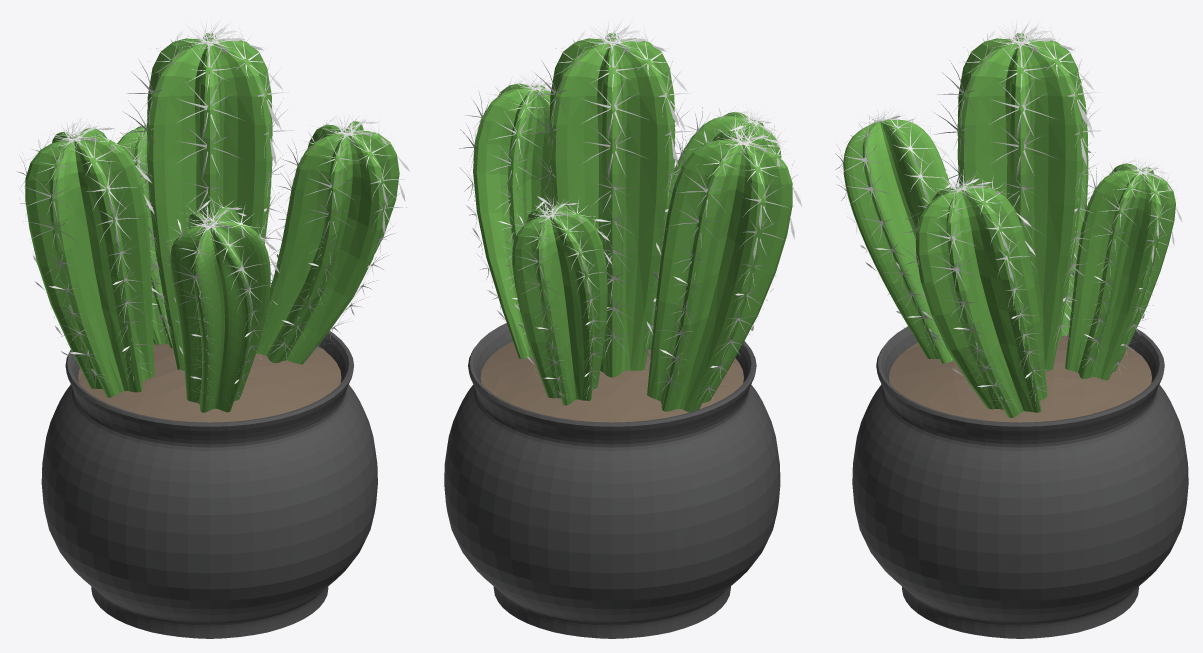
The model's file is sweethome3d-blendswap-cc-0-cactus-106.glb.
3 renders of one model, left to right at view 1: azimuth 30°, elevation 25°; view 2: azimuth 150°, elevation 25°; view 3: azimuth 270°, elevation 25°, orthographic.
Parts seen in each view (by area): view 1: Circle.016_Circle.031, Circle.019_Circle.035, Circle.014_Circle.009, Circle.018_Circle.033, Circle.017_Circle.034, forest-floor-458775_1280, Circle.005, Circle.003, Circle.001, Circle.002, Circle.021_Circle.036; view 2: Circle.016_Circle.031, Circle.014_Circle.009, Circle.019_Circle.035, Circle.021_Circle.036, Circle.018_Circle.033, forest-floor-458775_1280, Circle.005, Circle.003, Circle.000, Circle.017_Circle.034, Circle.001, Circle.002; view 3: Circle.016_Circle.031, Circle.014_Circle.009, Circle.018_Circle.033, Circle.021_Circle.036, Circle.017_Circle.034, forest-floor-458775_1280, Circle.005, Circle.001, Circle.000, Circle.002, Circle.019_Circle.035.
Boxes of the visible parts, left/top/right/bottom form: Circle.016_Circle.031: left=41, top=331, right=377, bottom=638; Circle.019_Circle.035: left=25, top=128, right=154, bottom=397; Circle.014_Circle.009: left=147, top=33, right=272, bottom=370; Circle.018_Circle.033: left=256, top=121, right=399, bottom=364; Circle.017_Circle.034: left=170, top=206, right=270, bottom=412; forest-floor-458775_1280: left=78, top=341, right=341, bottom=422; Circle.005: left=121, top=18, right=294, bottom=342; Circle.003: left=17, top=117, right=156, bottom=389; Circle.001: left=269, top=112, right=409, bottom=360; Circle.002: left=161, top=196, right=279, bottom=404; Circle.021_Circle.036: left=117, top=125, right=172, bottom=348; Circle.016_Circle.031: left=444, top=323, right=780, bottom=638; Circle.014_Circle.009: left=549, top=33, right=675, bottom=377; Circle.019_Circle.035: left=647, top=130, right=792, bottom=412; Circle.021_Circle.036: left=512, top=204, right=607, bottom=405; Circle.018_Circle.033: left=473, top=83, right=552, bottom=358; forest-floor-458775_1280: left=480, top=341, right=743, bottom=422; Circle.005: left=525, top=17, right=693, bottom=355; Circle.003: left=645, top=119, right=802, bottom=403; Circle.000: left=503, top=198, right=612, bottom=402; Circle.017_Circle.034: left=648, top=112, right=781, bottom=349; Circle.001: left=459, top=71, right=552, bottom=337; Circle.002: left=675, top=104, right=787, bottom=164; Circle.016_Circle.031: left=852, top=326, right=1188, bottom=638; Circle.014_Circle.009: left=957, top=33, right=1083, bottom=370; Circle.018_Circle.033: left=916, top=184, right=1047, bottom=417; Circle.021_Circle.036: left=1065, top=163, right=1175, bottom=380; Circle.017_Circle.034: left=843, top=119, right=953, bottom=363; forest-floor-458775_1280: left=889, top=335, right=1151, bottom=422; Circle.005: left=934, top=17, right=1100, bottom=348; Circle.001: left=901, top=169, right=1051, bottom=412; Circle.000: left=1064, top=155, right=1182, bottom=374; Circle.002: left=835, top=108, right=956, bottom=353; Circle.019_Circle.035: left=1058, top=77, right=1088, bottom=340.
Size of the model in its own units: 14.79 by 22.46 by 12.83.
